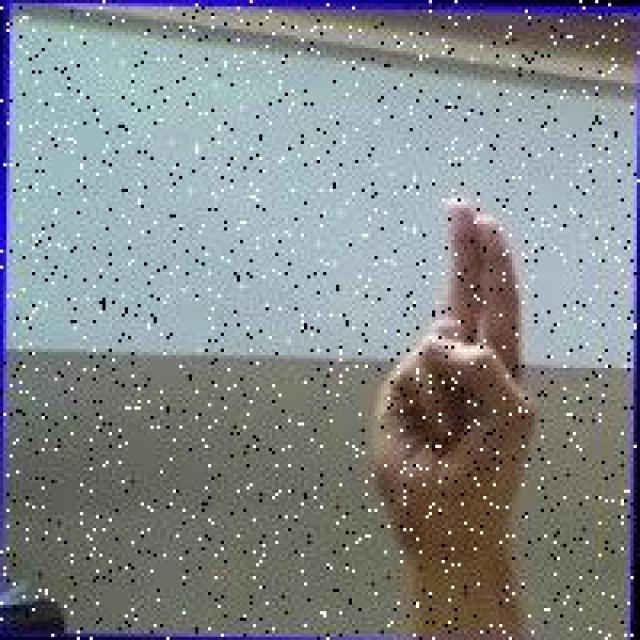U: (362, 187, 550, 546)
